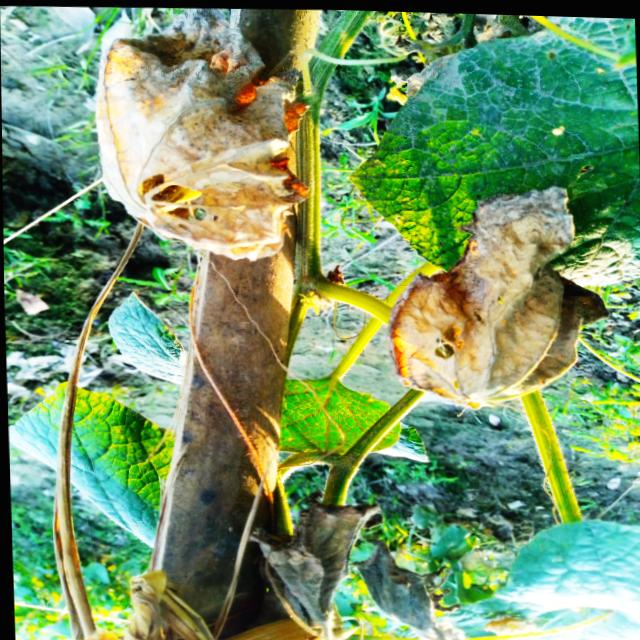Bacterial-Wilt: (94, 7, 309, 258), (388, 178, 609, 405), (245, 488, 382, 630)
